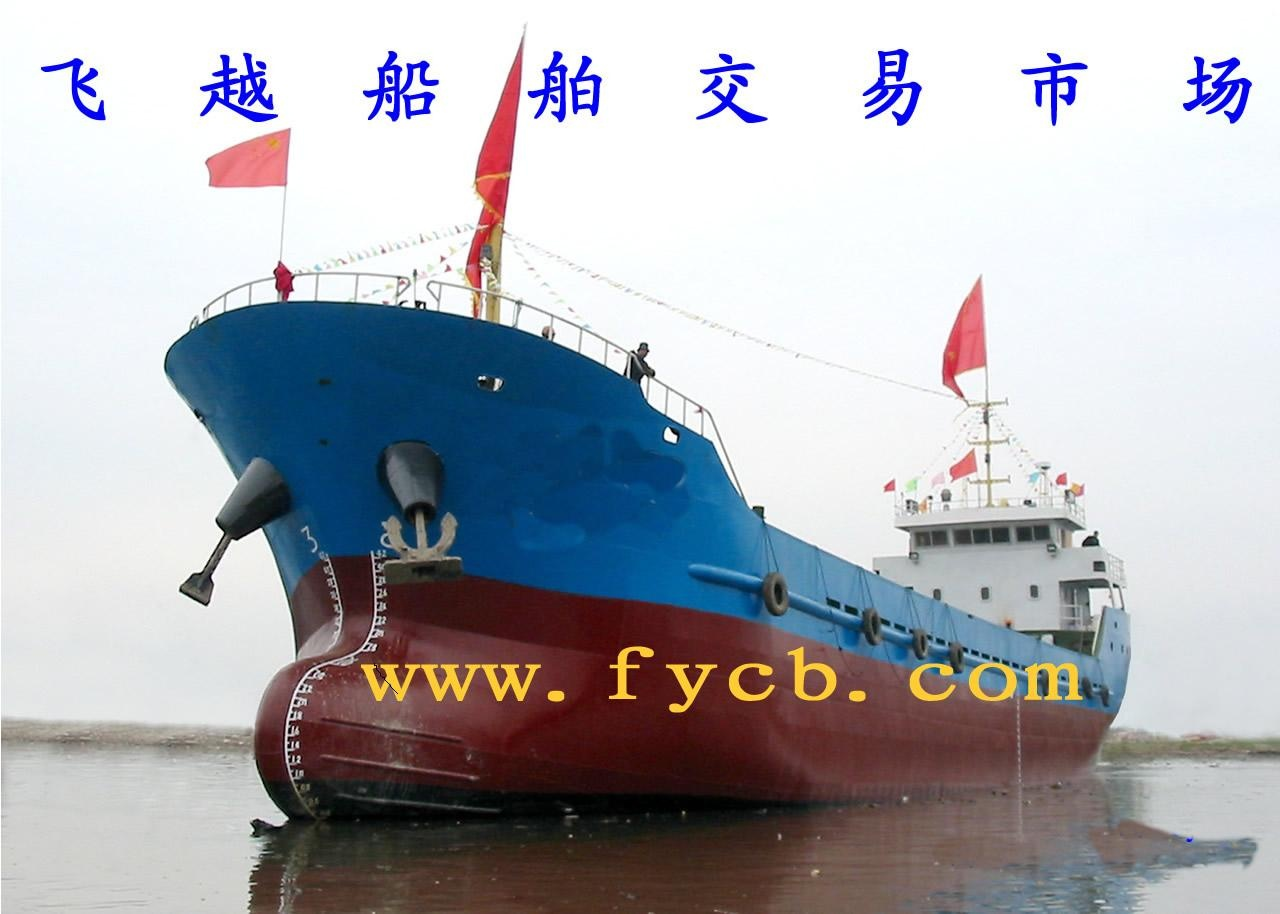Cargoship: (154, 226, 1137, 849)
